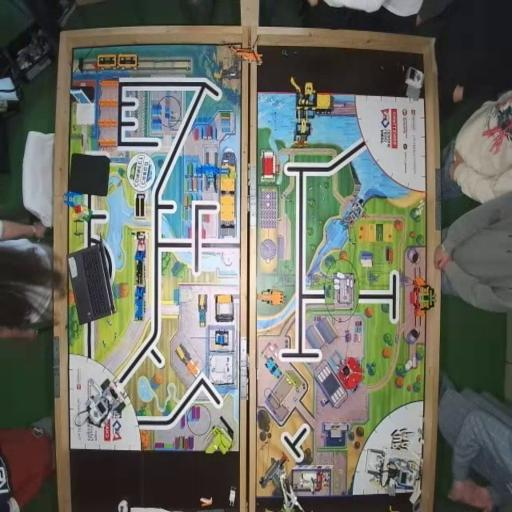lego_robot: (364, 447, 422, 496), (84, 377, 126, 430)
